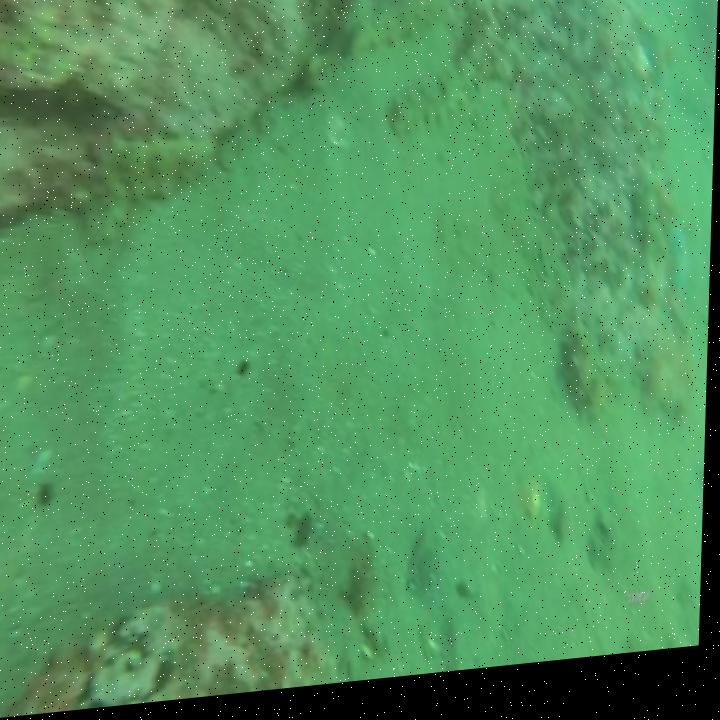holothurian: (76, 125, 221, 223), (392, 49, 490, 144), (348, 1, 445, 69)
